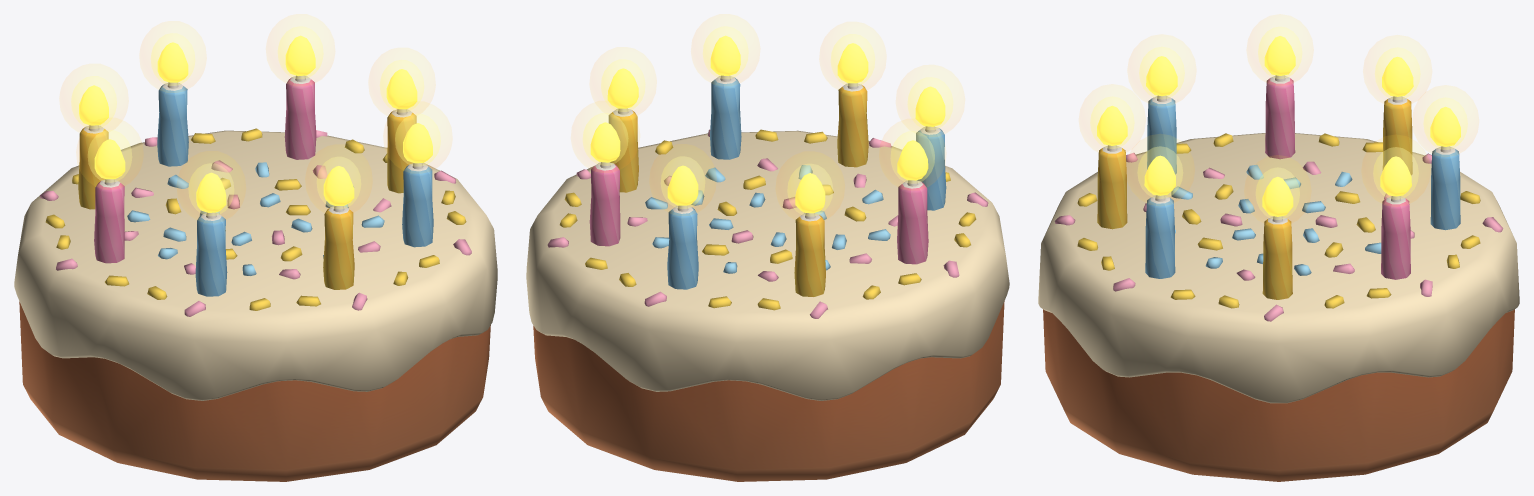
The model's file is campfire_birthday.glb.
The picture shows the model from 3 angles, left to right: view 1: azimuth 30°, elevation 25°; view 2: azimuth 150°, elevation 25°; view 3: azimuth 270°, elevation 25°; orthographic projection.
Visible parts, largest first — view 1: cake_birthday, cake_birthday_candle_glow, cake_birthday_candle_fire; view 2: cake_birthday, cake_birthday_candle_glow, cake_birthday_candle_fire; view 3: cake_birthday, cake_birthday_candle_glow, cake_birthday_candle_fire.
Part boxes in pixels (x1,y1,x2,y2): cake_birthday: (14,75,497,481); cake_birthday_candle_glow: (71,26,440,216); cake_birthday_candle_fire: (79,35,432,212); cake_birthday: (526,75,1009,481); cake_birthday_candle_glow: (582,26,953,216); cake_birthday_candle_fire: (590,35,945,213); cake_birthday: (1038,75,1519,481); cake_birthday_candle_glow: (1090,26,1467,219); cake_birthday_candle_fire: (1097,36,1460,216).
Bounding box in the file's own units: 1.22 × 0.8549 × 1.22.
Materials: 5 (1 with a texture image).
